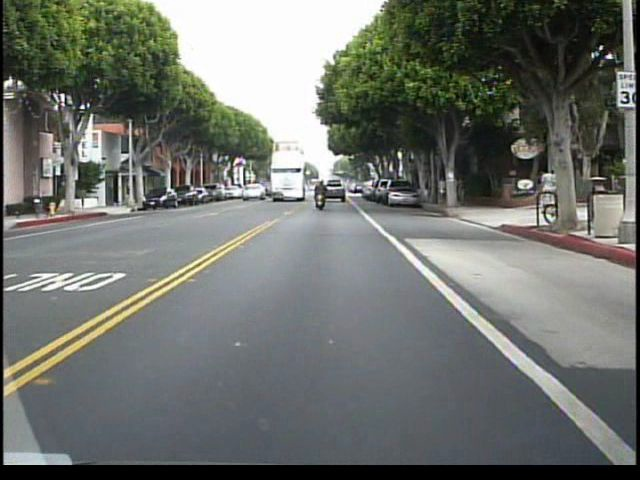person: (312, 176, 330, 217), (433, 174, 446, 207), (450, 172, 459, 203), (459, 174, 466, 204)
